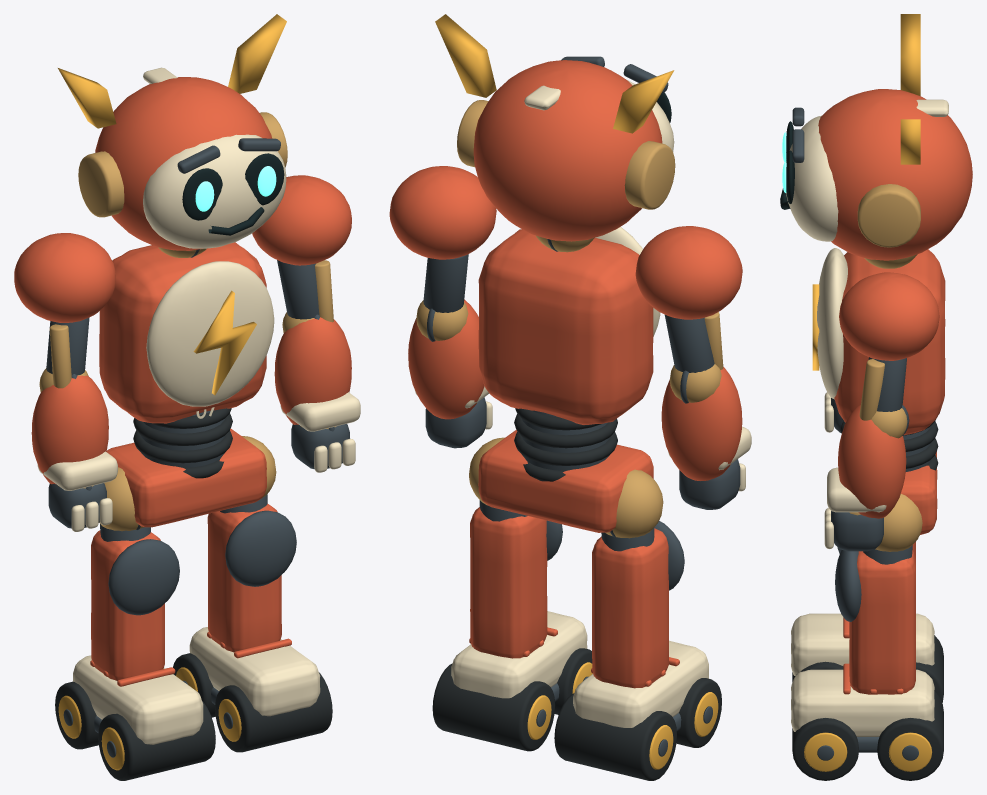
Rendered from roller_daredevil.t1.glb.
3 renders of one model, left to right at view 1: azimuth 30°, elevation 25°; view 2: azimuth 150°, elevation 25°; view 3: azimuth 270°, elevation 25°, orthographic. The views are drawn at different scales.
Parts seen in each view (by area): view 1: slot_torso__clay_vermilion__clay, slot_torso__clay_warm_ivory__clay, slot_head__clay_vermilion__clay, slot_head__clay_warm_ivory__clay, slot_armL__clay_vermilion__clay, slot_legL__clay_vermilion__clay, slot_legR__clay_vermilion__clay, slot_armR__clay_vermilion__clay, slot_legL__clay_warm_ivory__clay, slot_legR__clay_warm_ivory__clay, armR_elbow__clay_vermilion__clay, armL_elbow__clay_vermilion__clay (+25 smaller); view 2: slot_torso__clay_vermilion__clay, slot_head__clay_vermilion__clay, slot_legL__clay_vermilion__clay, slot_legR__clay_vermilion__clay, slot_armL__clay_vermilion__clay, slot_armR__clay_vermilion__clay, slot_legL__charcoal_rubber__protected, slot_legR__charcoal_rubber__protected, armL_elbow__clay_vermilion__clay, armR_elbow__clay_vermilion__clay, slot_legR__clay_warm_ivory__clay, slot_legL__clay_warm_ivory__clay (+18 smaller); view 3: slot_head__clay_vermilion__clay, slot_torso__clay_vermilion__clay, slot_legR__clay_vermilion__clay, slot_armR__clay_vermilion__clay, slot_legR__clay_warm_ivory__clay, armR_elbow__clay_vermilion__clay, slot_legR__charcoal_rubber__protected, slot_head__clay_warm_ivory__clay, slot_legL__clay_warm_ivory__clay, slot_torso__clay_warm_ivory__clay, slot_head__worn_warm_brass__protected, slot_legR__forged_bluelead_steel__protected (+14 smaller).
Part boxes in pixels (box(x1,y1,x2,y2)): slot_torso__clay_vermilion__clay: box(99, 242, 266, 527); slot_torso__clay_warm_ivory__clay: box(146, 261, 274, 406); slot_head__clay_vermilion__clay: box(95, 77, 272, 250); slot_head__clay_warm_ivory__clay: box(143, 134, 286, 248); slot_armL__clay_vermilion__clay: box(14, 233, 115, 322); slot_legL__clay_vermilion__clay: box(91, 530, 164, 680); slot_legR__clay_vermilion__clay: box(207, 504, 281, 652); slot_armR__clay_vermilion__clay: box(252, 175, 351, 265); slot_legL__clay_warm_ivory__clay: box(73, 655, 203, 744); slot_legR__clay_warm_ivory__clay: box(189, 627, 320, 716); armR_elbow__clay_vermilion__clay: box(274, 317, 351, 424); armL_elbow__clay_vermilion__clay: box(31, 375, 108, 484); slot_torso__clay_vermilion__clay: box(478, 229, 653, 532); slot_head__clay_vermilion__clay: box(473, 60, 662, 241); slot_legL__clay_vermilion__clay: box(592, 528, 669, 688); slot_legR__clay_vermilion__clay: box(470, 507, 547, 658); slot_armL__clay_vermilion__clay: box(635, 226, 742, 319); slot_armR__clay_vermilion__clay: box(389, 166, 496, 259); slot_legL__charcoal_rubber__protected: box(554, 678, 721, 780); slot_legR__charcoal_rubber__protected: box(432, 648, 592, 751); armL_elbow__clay_vermilion__clay: box(661, 367, 742, 480); armR_elbow__clay_vermilion__clay: box(408, 299, 484, 419); slot_legR__clay_warm_ivory__clay: box(451, 611, 587, 698); slot_legL__clay_warm_ivory__clay: box(573, 640, 708, 727); slot_head__clay_vermilion__clay: box(818, 89, 972, 260); slot_torso__clay_vermilion__clay: box(834, 249, 945, 534); slot_legR__clay_vermilion__clay: box(849, 551, 915, 694); slot_armR__clay_vermilion__clay: box(839, 272, 939, 360); slot_legR__clay_warm_ivory__clay: box(791, 669, 934, 736); armR_elbow__clay_vermilion__clay: box(838, 405, 906, 518); slot_legR__charcoal_rubber__protected: box(792, 691, 943, 780); slot_head__clay_warm_ivory__clay: box(786, 115, 838, 241); slot_legL__clay_warm_ivory__clay: box(791, 613, 934, 675); slot_torso__clay_warm_ivory__clay: box(817, 248, 847, 399); slot_head__worn_warm_brass__protected: box(857, 184, 920, 247); slot_legR__forged_bluelead_steel__protected: box(817, 535, 919, 760).
Bounding box in the file's own units: 1.1 × 2.19 × 0.5743.
